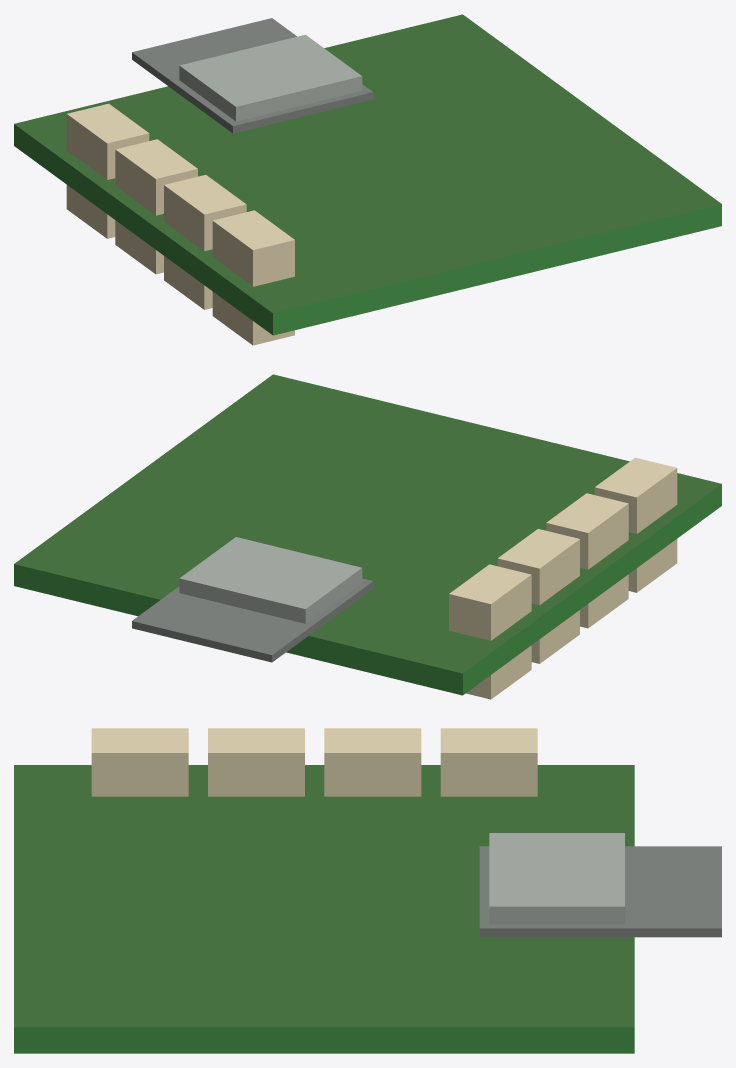
The model's file is garden-board-model.gltf.
3 views of the same model, one above another, from view 1: azimuth 30°, elevation 25°; view 2: azimuth 150°, elevation 25°; view 3: azimuth 270°, elevation 25° (orthographic). The views are drawn at different scales.
Parts seen in each view (by area): view 1: base, bottom_esp32, top_esp32, stemma3, stemma0, stemma1, stemma2, stemma4, stemma7, stemma6, stemma5; view 2: base, bottom_esp32, top_esp32, stemma0, stemma3, stemma2, stemma1, stemma7, stemma4, stemma5, stemma6; view 3: base, bottom_esp32, top_esp32, stemma0, stemma1, stemma3, stemma2.
Part boxes in pixels (x1,y1,x2,y2): base: (14,14,721,335); bottom_esp32: (179,34,362,121); top_esp32: (132,18,373,133); stemma3: (212,210,294,286); stemma0: (66,103,149,179); stemma1: (115,139,197,215); stemma2: (164,175,246,251); stemma4: (212,291,294,345); stemma7: (66,185,115,238); stemma6: (115,220,163,274); stemma5: (164,256,212,309); base: (14,374,721,695); bottom_esp32: (179,537,362,623); top_esp32: (132,578,373,662); stemma0: (449,564,531,640); stemma3: (594,457,677,533); stemma2: (546,493,628,569); stemma1: (497,529,579,605); stemma7: (466,645,531,699); stemma4: (628,539,677,592); stemma5: (580,574,628,628); stemma6: (531,610,579,663); base: (14,765,634,1053); bottom_esp32: (489,833,624,924); top_esp32: (479,846,721,937); stemma0: (440,728,537,796); stemma1: (324,728,421,796); stemma3: (91,728,188,796); stemma2: (208,728,304,796).
Bounding box in the file's own units: 4 × 0.8125 × 4.56.
1 material, 1 textured.
